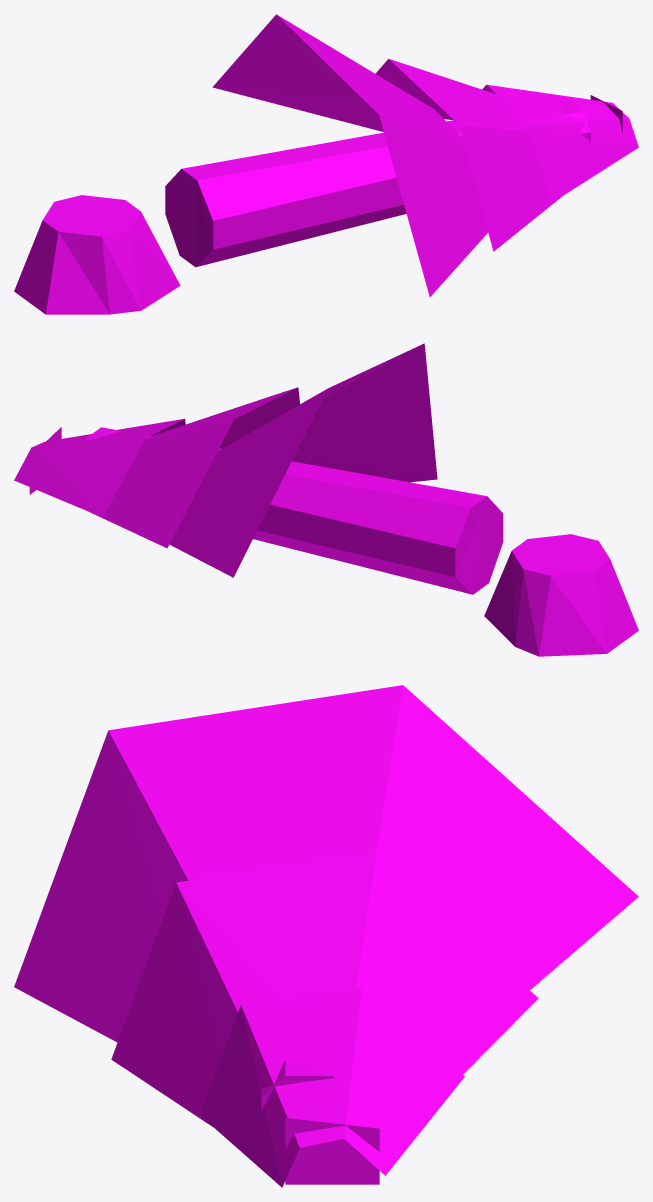
The model's file is totemtree3.obj.
3 renders of one model, top to bottom at view 1: azimuth 30°, elevation 25°; view 2: azimuth 150°, elevation 25°; view 3: azimuth 270°, elevation 25°, orthographic. The views are drawn at different scales.
Visible parts, largest first — view 1: totemtree3_back; view 2: totemtree3_back; view 3: totemtree3_back.
Part boxes in pixels (left/top/right/bottom): totemtree3_back: left=14, top=14, right=638, bottom=314; totemtree3_back: left=14, top=343, right=638, bottom=656; totemtree3_back: left=14, top=685, right=638, bottom=1187.
Bounding box in the file's own units: 3.44 × 1.14 × 2.12.
